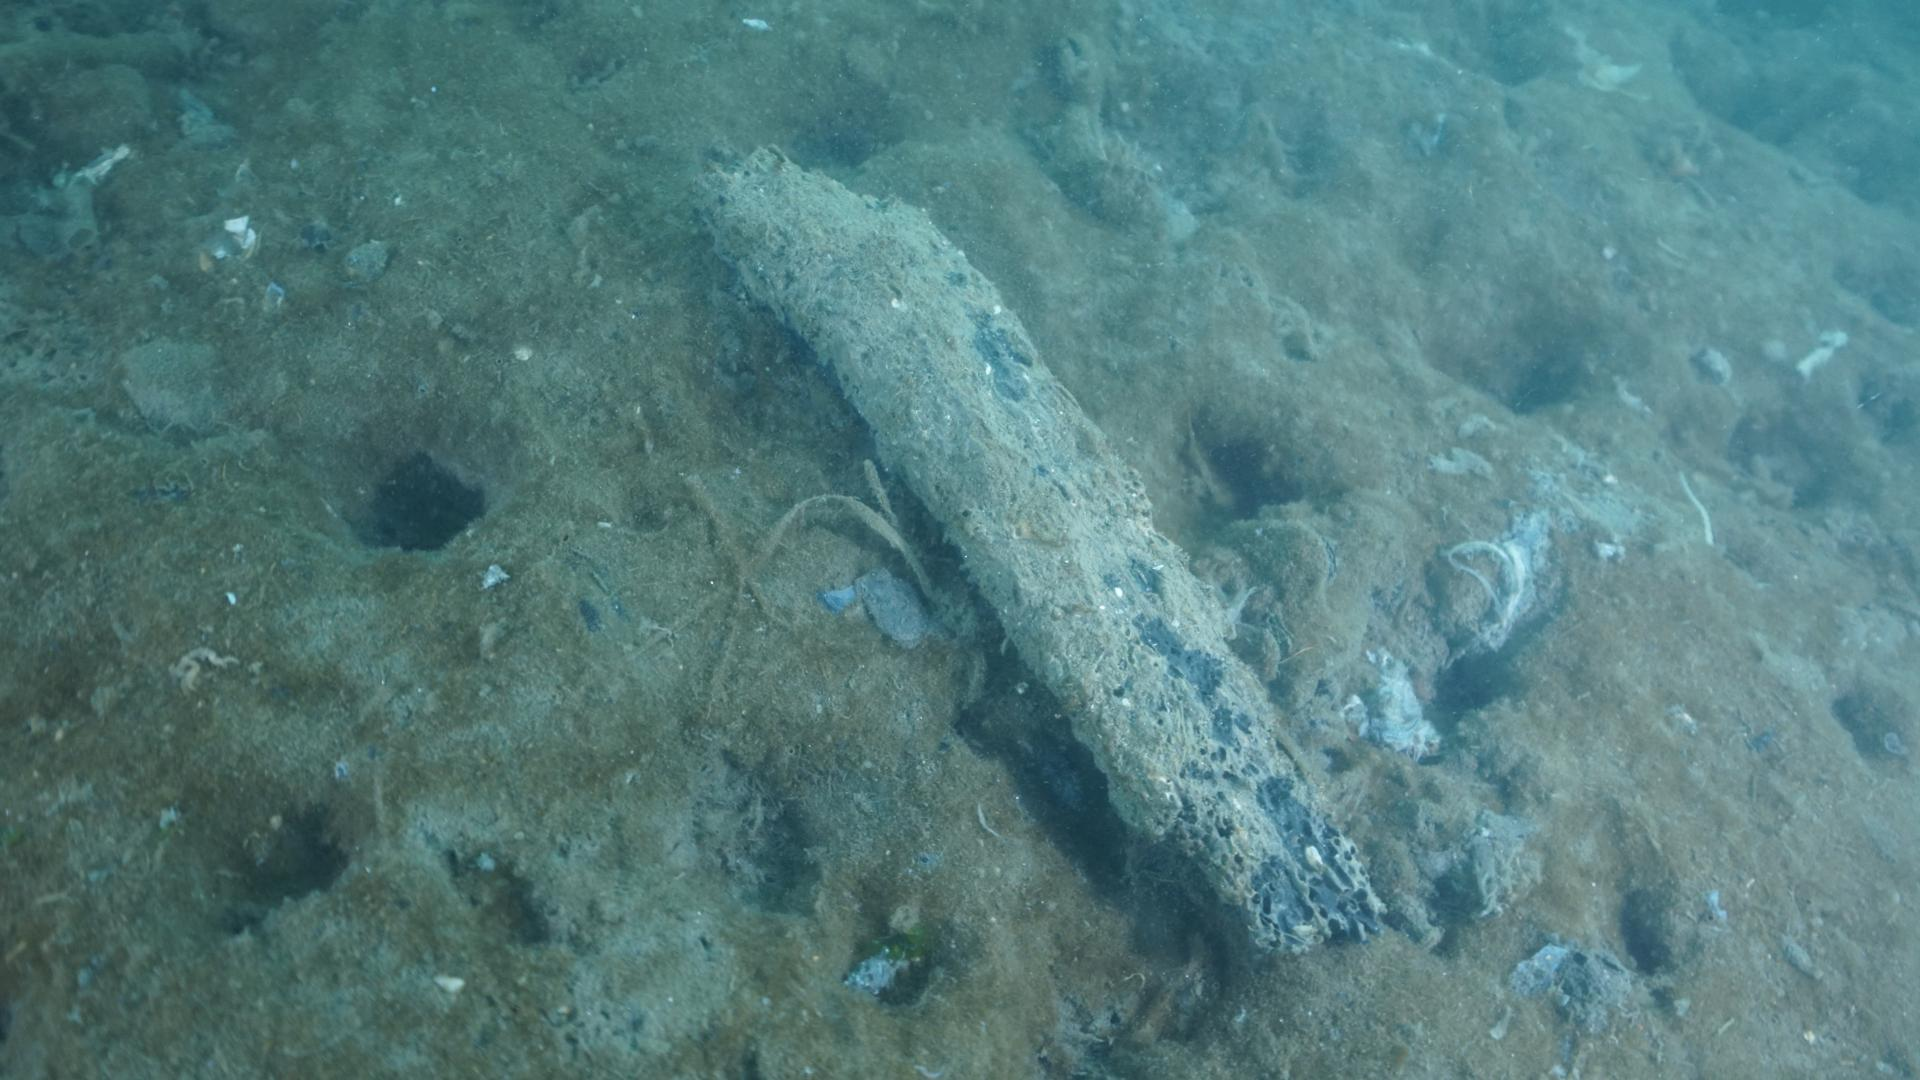wood: (690, 142, 1389, 968)
